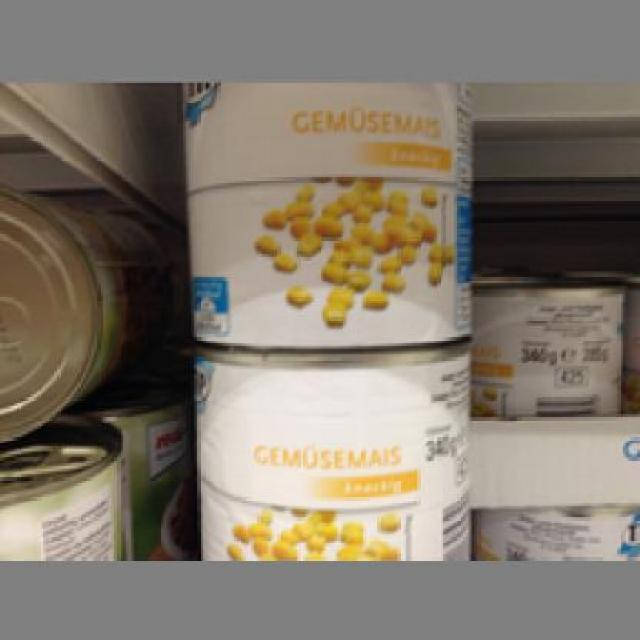Corn: (180, 80, 469, 343), (188, 340, 472, 557), (469, 277, 620, 414)
